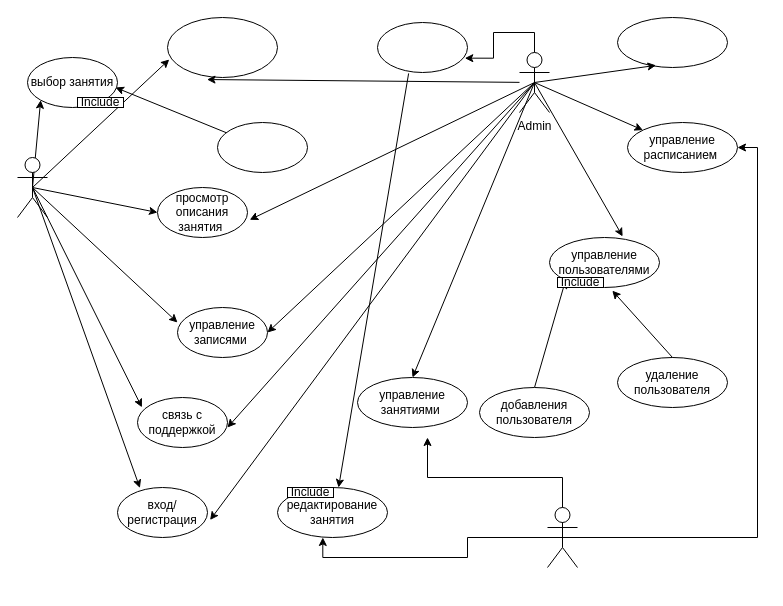
The diagram is 783 pixels wide and 606 high, and some of its shapes have lost their labels. The shapes that lost their labels are listed below. From the top down, each one's centre as x and y in pixels, then its label:
point 222,47: Подтверждение записи на занятие
point 422,47: добавление описания занятия
point 672,42: определение роли
point 262,147: запись на занятие в кружок
point 32,187: Users
point 562,537: Teacher
